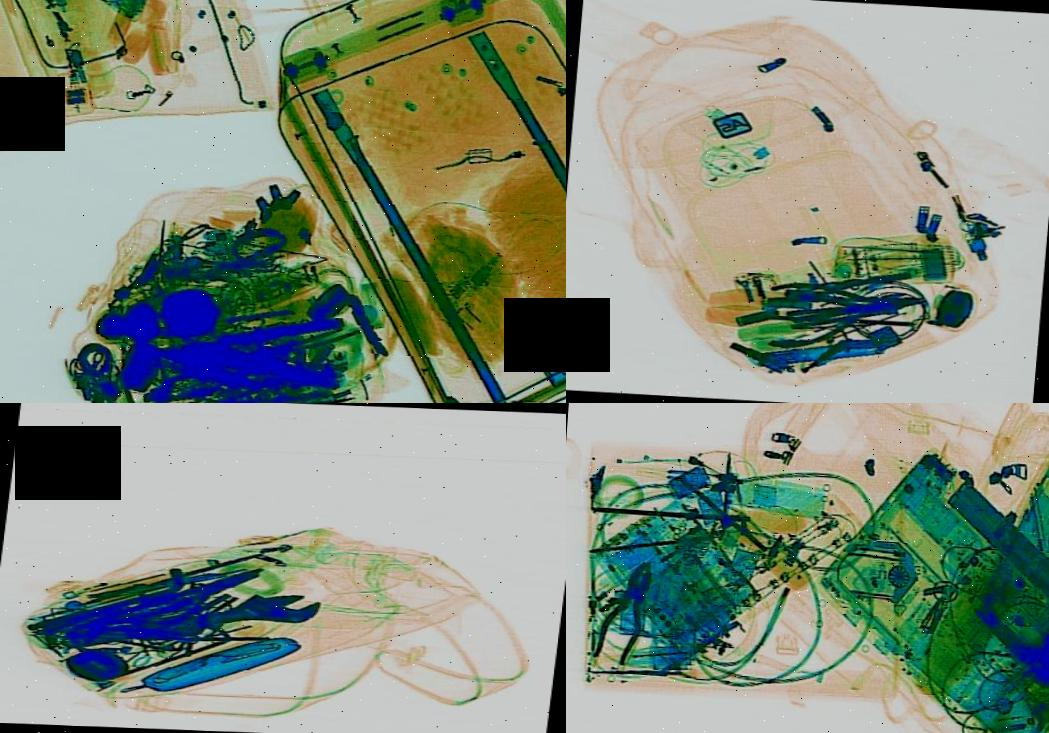Pliers: (749, 256, 939, 359), (590, 554, 671, 666), (113, 354, 178, 403)
Wrench: (50, 574, 337, 669), (154, 381, 260, 403)
